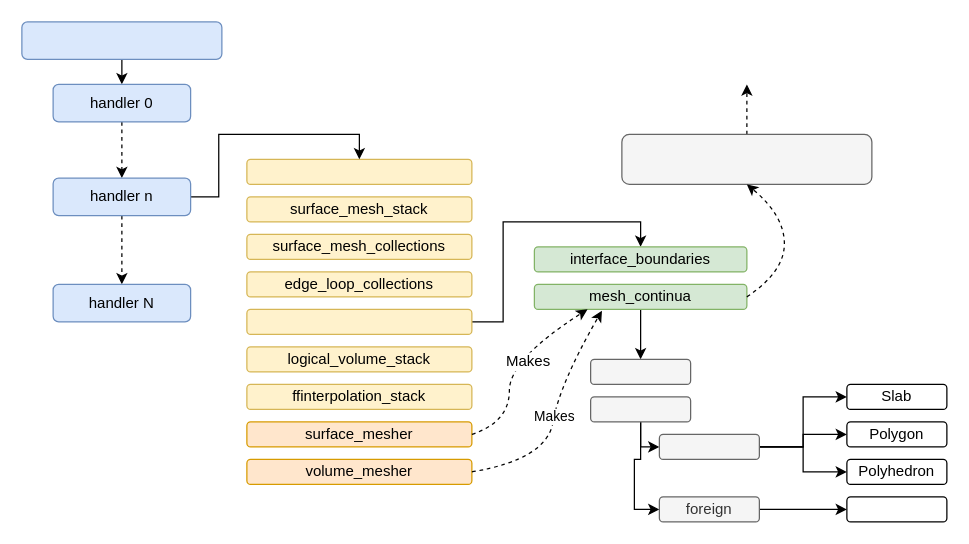
The diagram is 969 pixels wide and 544 high, and some of its shapes have lost their labels. The shapes that lost their labels are listed below. From the top down, each one's box as (x1, y1, x2, y2) in pixels, then its label:
(21, 21, 222, 59): chi_meshhandler_stack
(246, 158, 472, 184): linemesh_stack
(621, 133, 872, 184): chi_mesh::MeshHandler::GetGrid() Gets latest mesh
(246, 308, 472, 334): region_stack
(589, 358, 691, 384): nodes
(589, 396, 691, 422): cells
(658, 433, 759, 459): native
(846, 496, 947, 522): Ghost Cell
